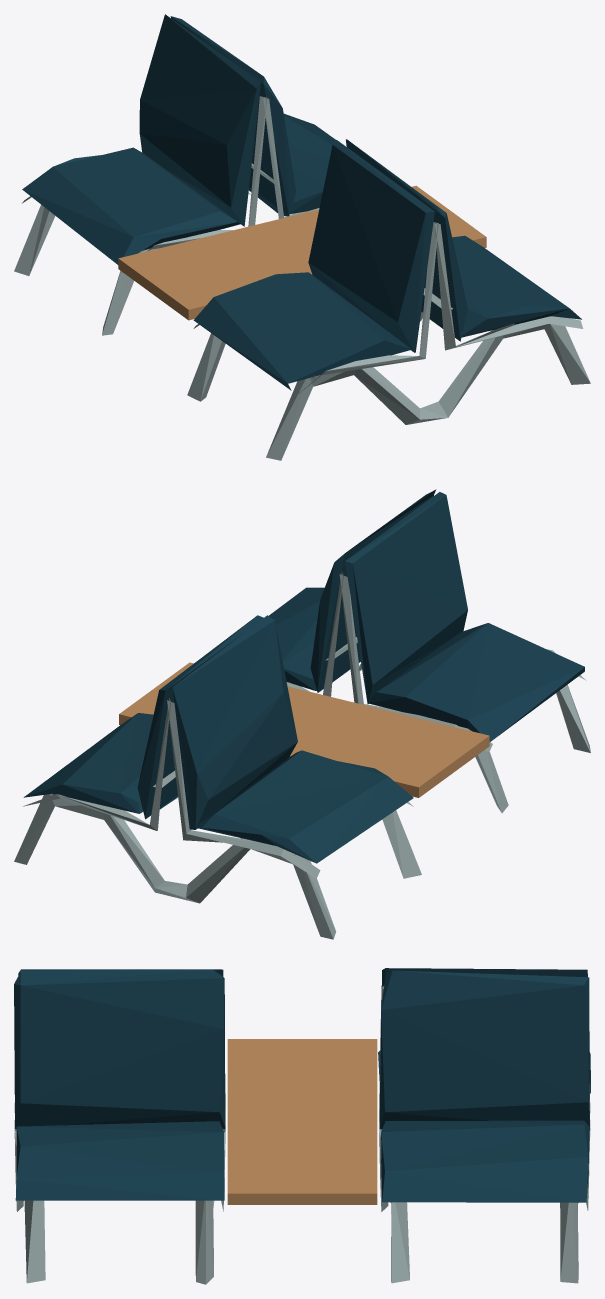
The model's file is sieges-xYaaHebt.glb.
The picture shows the model from 3 angles, top to bottom: view 1: azimuth 30°, elevation 25°; view 2: azimuth 150°, elevation 25°; view 3: azimuth 270°, elevation 25°; orthographic projection. The views are drawn at different scales.
Visible parts, largest first — view 1: 10.Chairs_Cylinder.052; view 2: 10.Chairs_Cylinder.052; view 3: 10.Chairs_Cylinder.052.
Part boxes in pixels (box(x1,y1,x2,y2)): 10.Chairs_Cylinder.052: box(14, 14, 590, 460); 10.Chairs_Cylinder.052: box(14, 489, 590, 939); 10.Chairs_Cylinder.052: box(14, 968, 590, 1284).
Size of the model in its own units: 1.37 by 0.8885 by 2.
